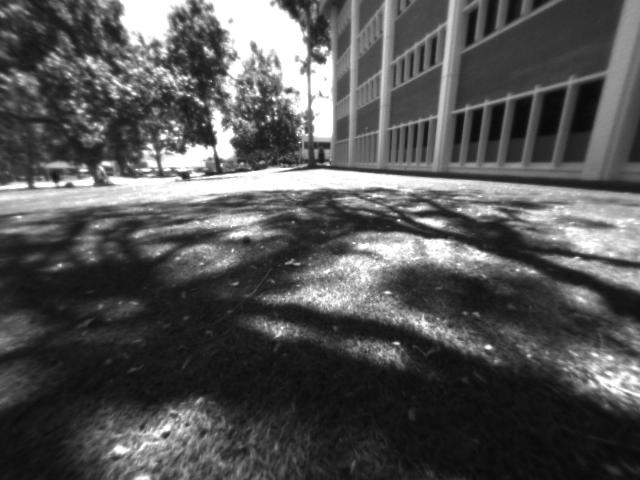dogtoy: (234, 229, 260, 250)
